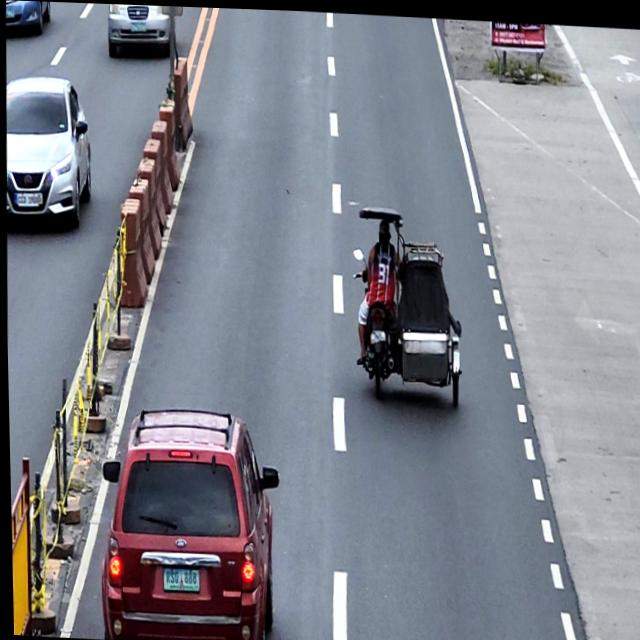Car: (93, 402, 281, 640), (3, 73, 92, 228), (106, 3, 172, 59), (5, 0, 52, 35)
License-Plate: (159, 563, 197, 591), (15, 192, 38, 207), (129, 19, 146, 32), (369, 327, 385, 340), (6, 7, 15, 19)
Tricycle: (347, 202, 464, 404)
